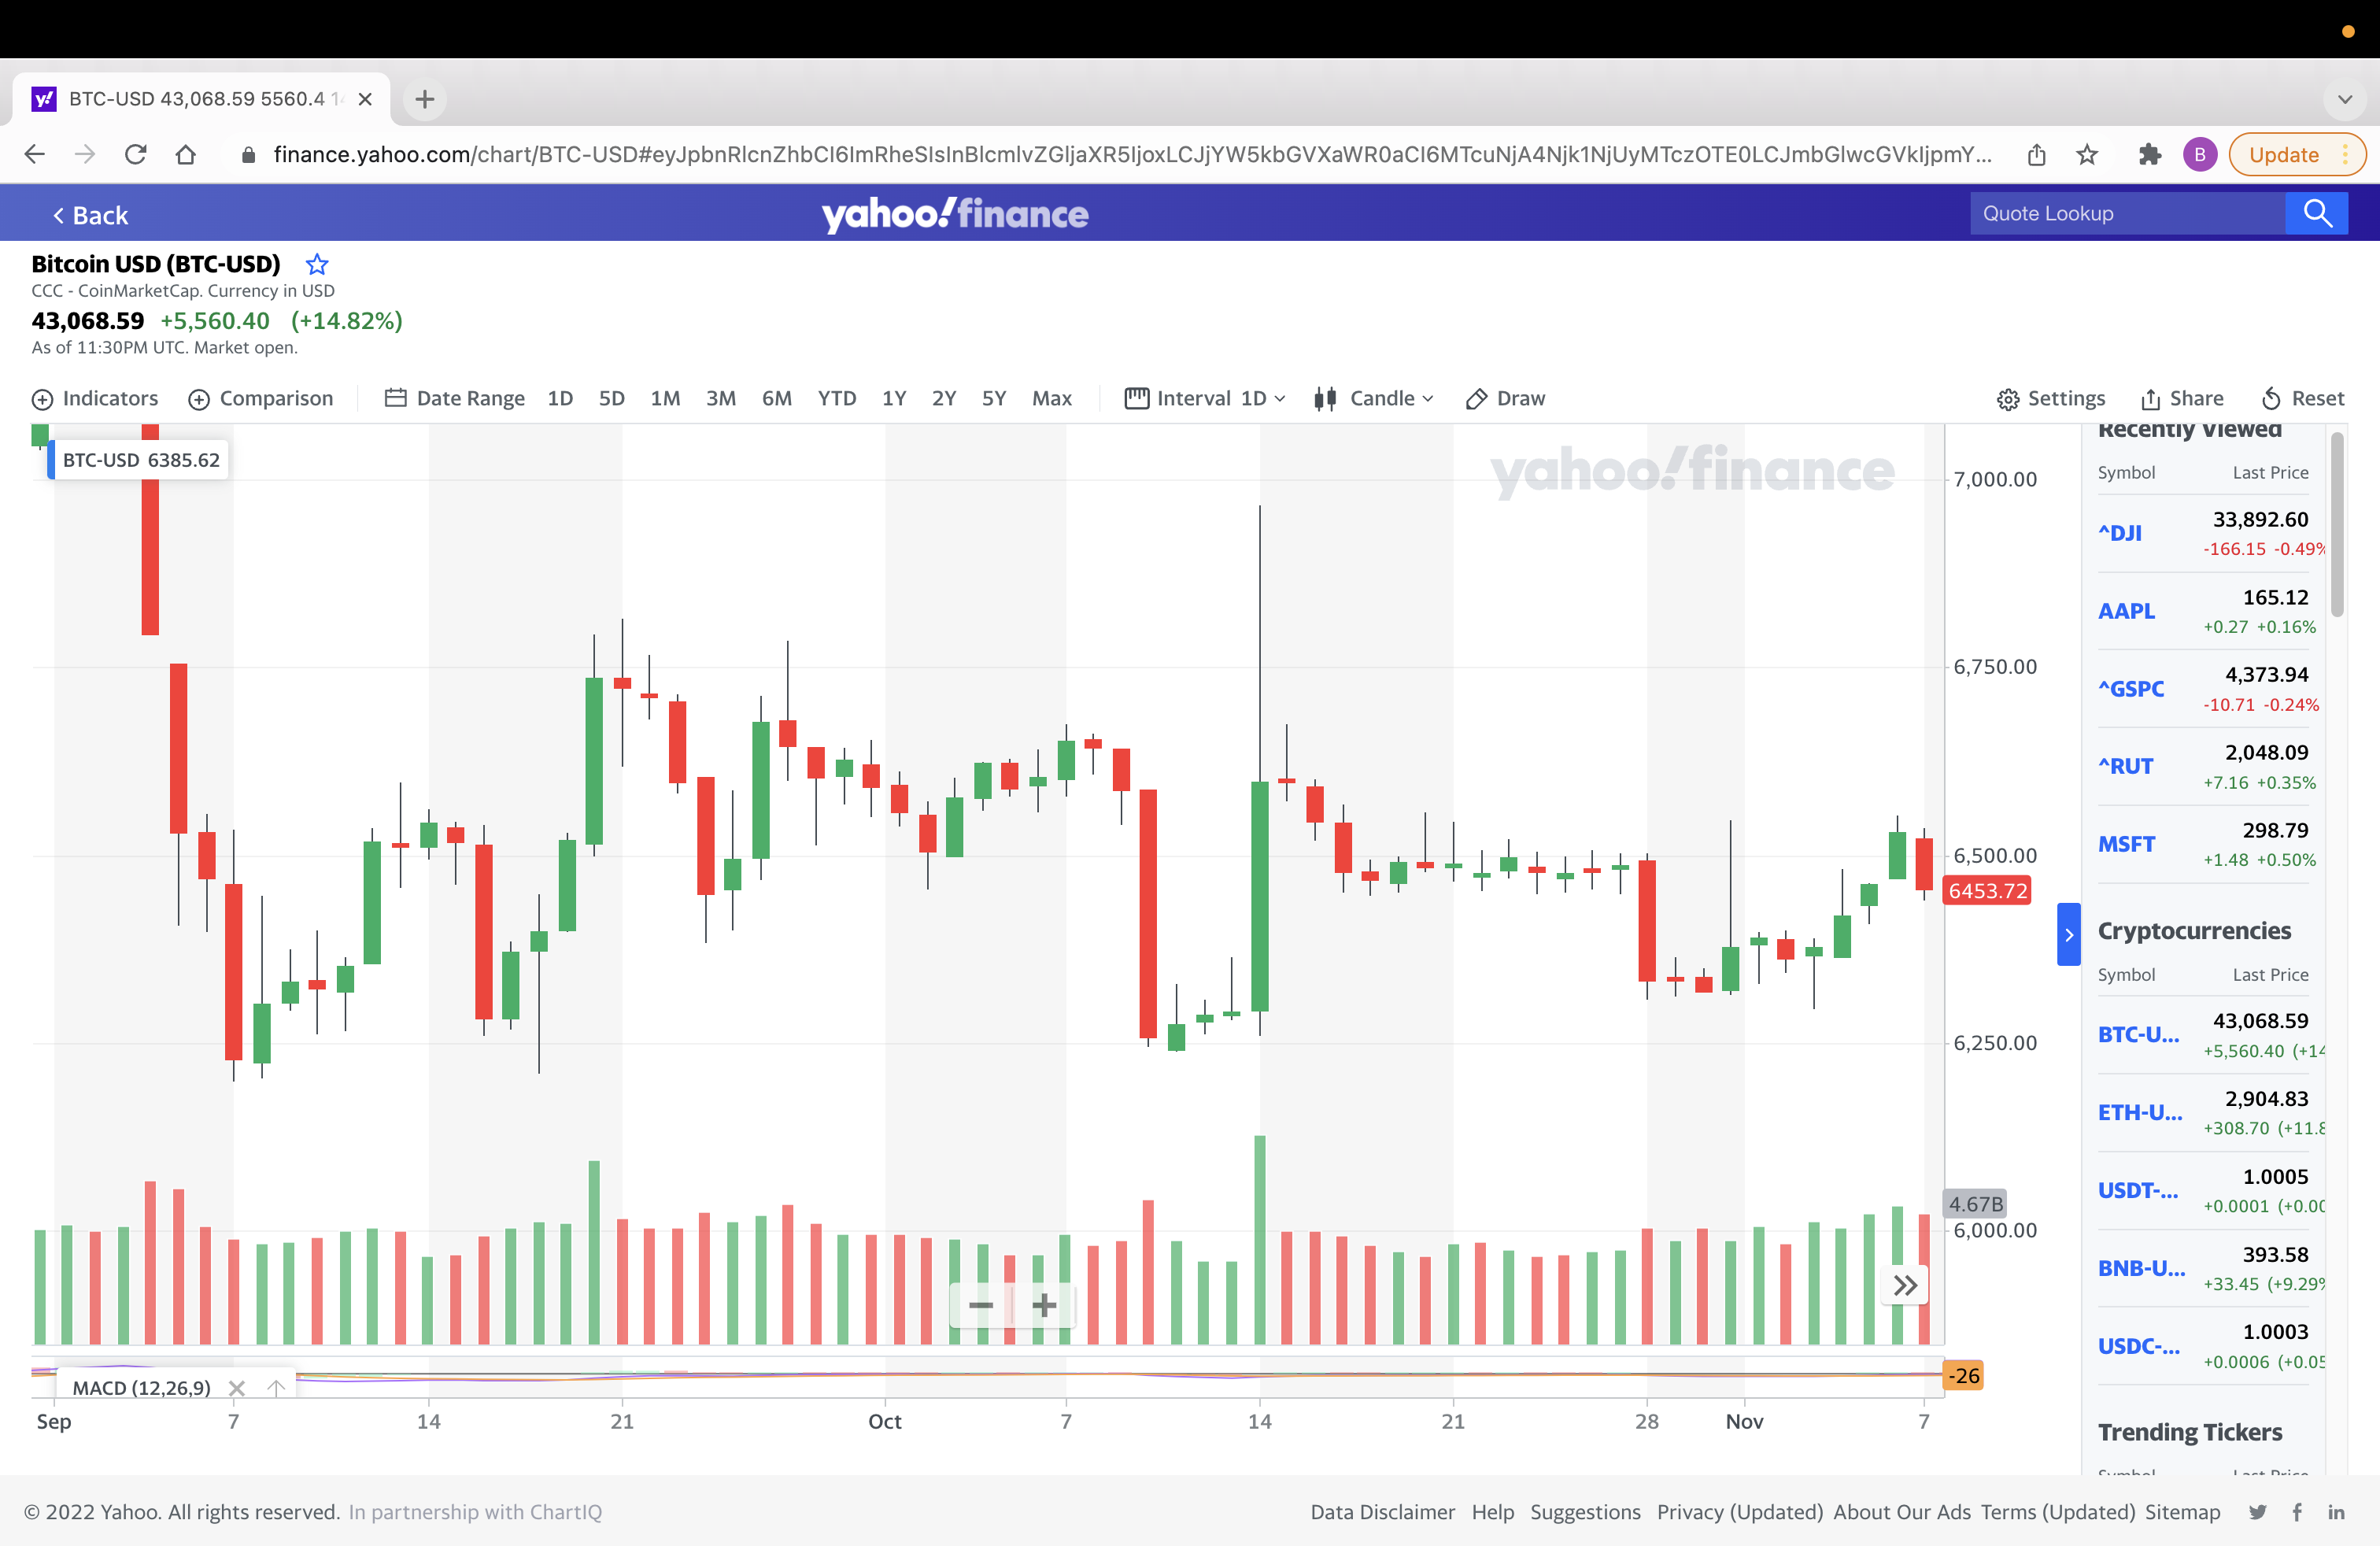Three Black Crows: (120, 236, 206, 673)
Three White Soldiers: (486, 238, 569, 694), (456, 328, 539, 586)
